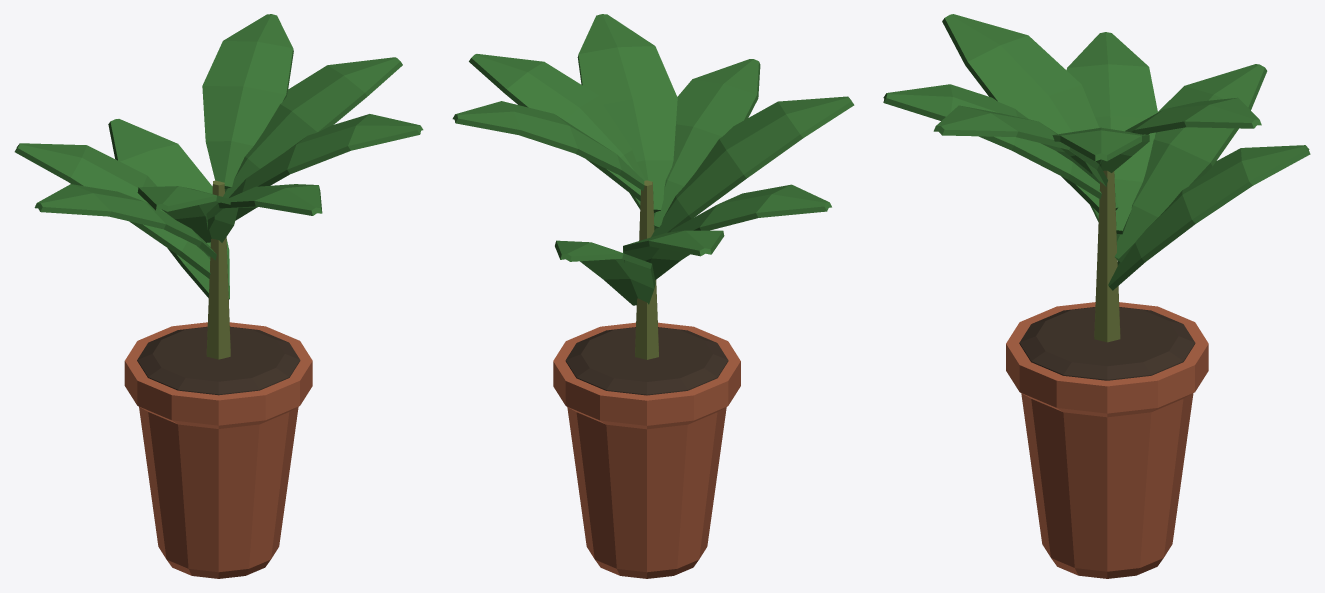
The model's file is PottedPlant.fbx.
3 views of the same model, side by side, from view 1: azimuth 30°, elevation 25°; view 2: azimuth 150°, elevation 25°; view 3: azimuth 270°, elevation 25° (orthographic). The views are drawn at different scales.
Visible parts, largest first — view 1: PottedPlant; view 2: PottedPlant; view 3: PottedPlant.
Part boxes in pixels (x1,y1,x2,y2): PottedPlant: (14, 14, 423, 578); PottedPlant: (452, 14, 854, 578); PottedPlant: (883, 14, 1310, 578).
Bounding box in the file's own units: 0.8697 × 1.06 × 0.8263.
